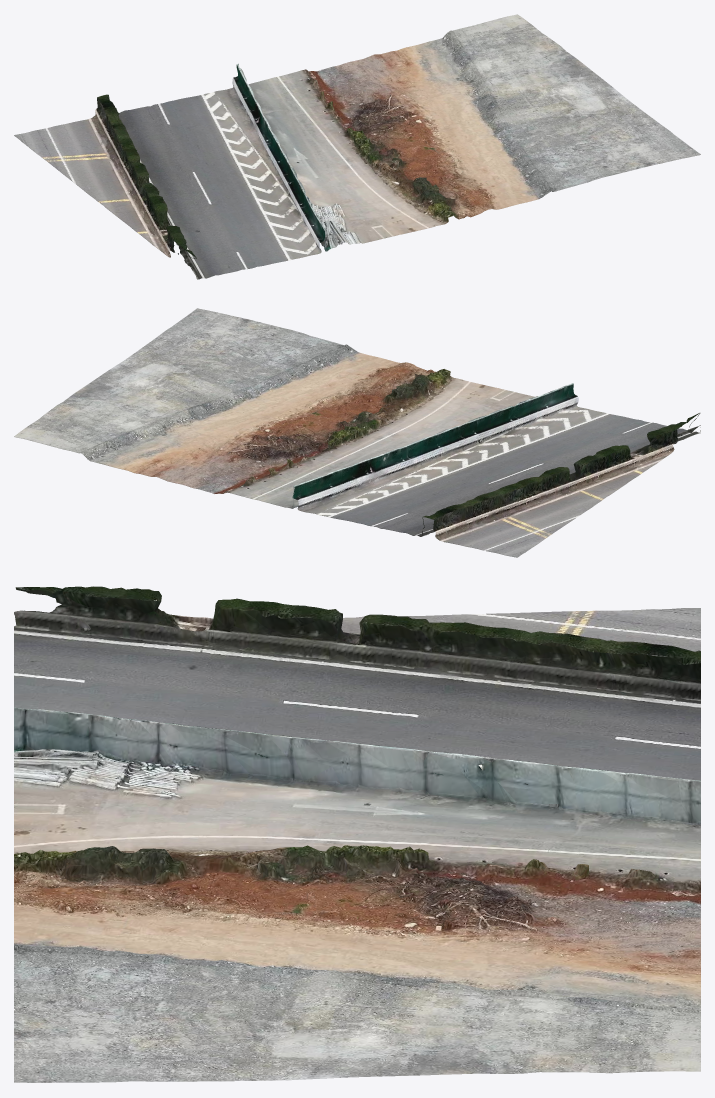
File: BlockBYXA_L20_12.glb
3 views of the same model, one above another, from view 1: azimuth 30°, elevation 25°; view 2: azimuth 150°, elevation 25°; view 3: azimuth 270°, elevation 25° (orthographic). The views are drawn at different scales.
Parts seen in each view (by area): view 1: rtc; view 2: rtc; view 3: rtc.
Part boxes in pixels (x1,y1,x2,y2): rtc: (14,14,700,279); rtc: (14,308,700,557); rtc: (14,586,700,1082).
Size of the model in its own units: 47.16 by 3.14 by 29.74.
2 materials, 2 textured.
